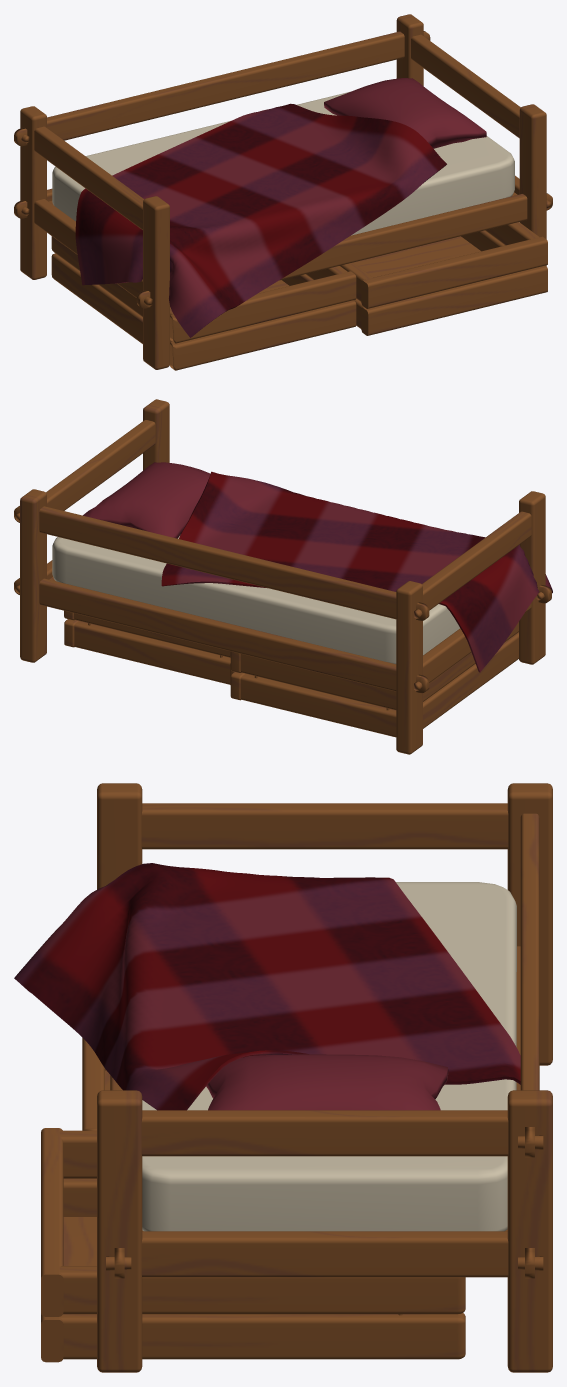
File: Bed.fbx
3 views of the same model, one above another, from view 1: azimuth 30°, elevation 25°; view 2: azimuth 150°, elevation 25°; view 3: azimuth 270°, elevation 25° (orthographic). The views are drawn at different scales.
Visible parts, largest first — view 1: Blanket, Horizontalbeams, Drawer1, Drawer2, UpBeams, Matress, Vertbeams, Pillow; view 2: Blanket, Horizontalbeams, Matress, UpBeams, Drawer2, Vertbeams, Drawer1, Pillow; view 3: Blanket, Vertbeams, Matress, Drawer1, UpBeams, Pillow, Horizontalbeams, Drawer2.
Part boxes in pixels (box(x1,y1,x2,y2)): Blanket: box(75, 103, 446, 337); Horizontalbeams: box(14, 31, 552, 308); Drawer1: box(340, 222, 547, 335); Drawer2: box(51, 236, 356, 370); UpBeams: box(20, 14, 546, 369); Matress: box(52, 91, 514, 235); Vertbeams: box(34, 34, 520, 297); Pillow: box(324, 78, 486, 148); Blanket: box(161, 471, 552, 672); Horizontalbeams: box(14, 506, 551, 692); Matress: box(52, 536, 459, 664); UpBeams: box(20, 399, 545, 754); Drawer2: box(230, 622, 518, 737); Vertbeams: box(46, 420, 531, 682); Drawer1: box(64, 610, 233, 684); Pillow: box(83, 462, 210, 538); Blanket: box(14, 863, 520, 1110); Vertbeams: box(141, 803, 508, 1277); Matress: box(142, 882, 516, 1231); Drawer1: box(41, 1128, 465, 1362); UpBeams: box(97, 783, 552, 1372); Pillow: box(206, 1054, 448, 1110); Horizontalbeams: box(110, 813, 539, 1278); Drawer2: box(82, 1038, 110, 1130).
Size of the model in its own units: 222 by 84.34 by 150.
1 material, 1 textured.
